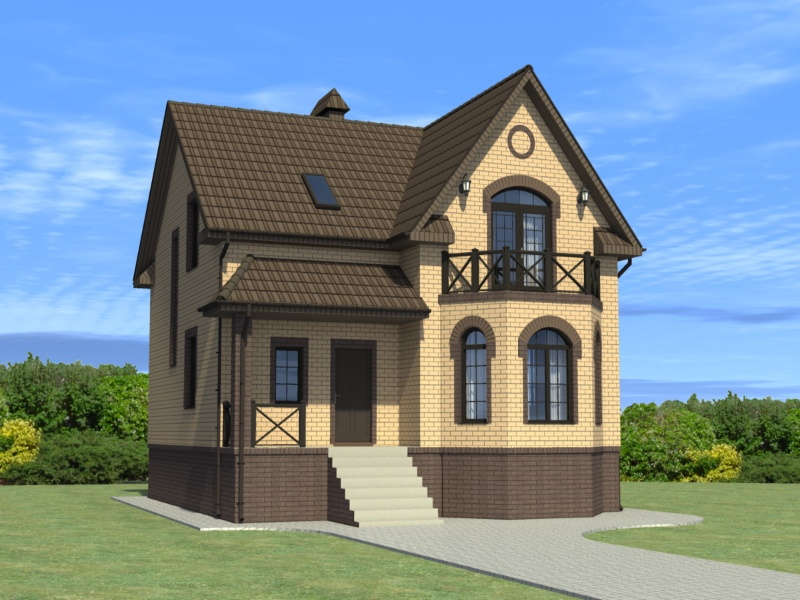window: (484, 177, 555, 293), (520, 323, 578, 423), (451, 322, 494, 426), (268, 339, 307, 405)
